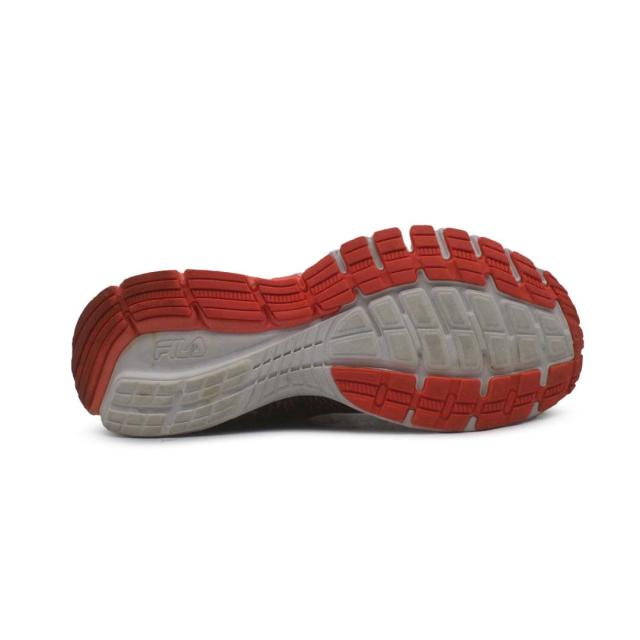outersole: (72, 229, 587, 433)
